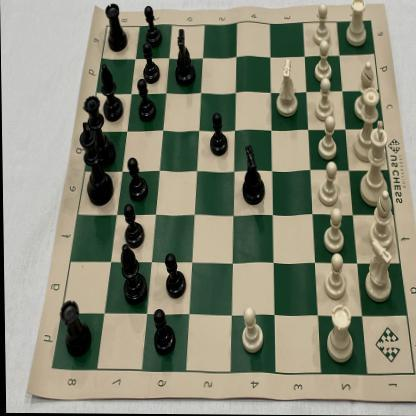black-bishop: (119, 245, 147, 306), (100, 62, 122, 123)
black-king: (79, 122, 114, 207)
black-knight: (239, 142, 265, 206), (173, 28, 197, 86)
black-pawn: (163, 252, 187, 302), (152, 308, 174, 356), (120, 205, 144, 248), (208, 111, 229, 156), (128, 155, 148, 202), (143, 3, 163, 47), (137, 79, 155, 124), (142, 42, 160, 85)
black-queen: (81, 94, 116, 168)
black-rook: (58, 299, 92, 359), (107, 3, 127, 53)
white-bishop: (368, 190, 393, 250), (352, 61, 375, 121)
white-king: (359, 120, 389, 205)
white-knight: (364, 239, 395, 303), (276, 58, 298, 122)
white-pawn: (240, 304, 264, 356), (323, 252, 346, 300), (317, 161, 339, 205), (323, 206, 344, 252), (317, 116, 337, 160), (316, 79, 334, 121), (313, 40, 331, 81), (314, 4, 331, 45)
white-queen: (353, 86, 381, 162)
white-rook: (326, 303, 353, 364), (346, 0, 368, 48)
